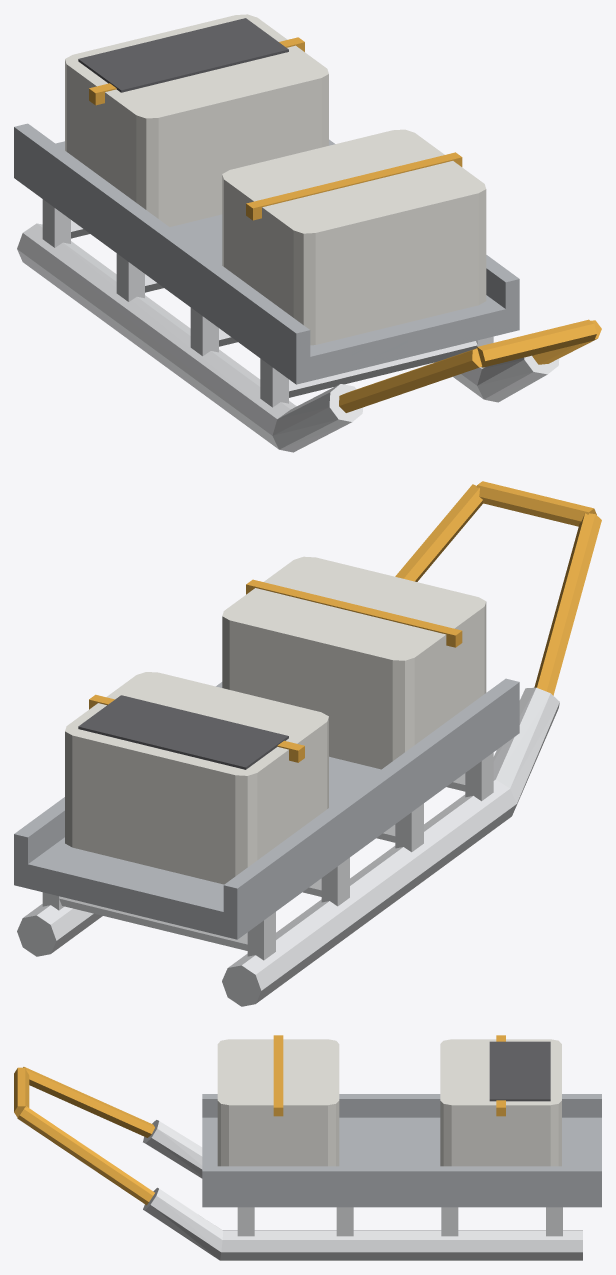
Rendered from equipment-sled-408c66bc.glb.
3 renders of one model, top to bottom at view 1: azimuth 30°, elevation 25°; view 2: azimuth 150°, elevation 25°; view 3: azimuth 270°, elevation 25°, orthographic. The views are drawn at different scales.
Parts seen in each view (by area): view 1: equipment-sled, tow-bar; view 2: equipment-sled, tow-bar; view 3: equipment-sled, tow-bar.
Boxes of the visible parts, box(x1,y1,x2,y2) form: equipment-sled: box(14, 14, 559, 452); tow-bar: box(339, 319, 601, 412); equipment-sled: box(14, 556, 559, 1006); tow-bar: box(395, 481, 601, 695); equipment-sled: box(143, 1035, 601, 1260); tow-bar: box(14, 1067, 154, 1205).
Bounding box in the file's own units: 1.05 × 0.895 × 3.09.
